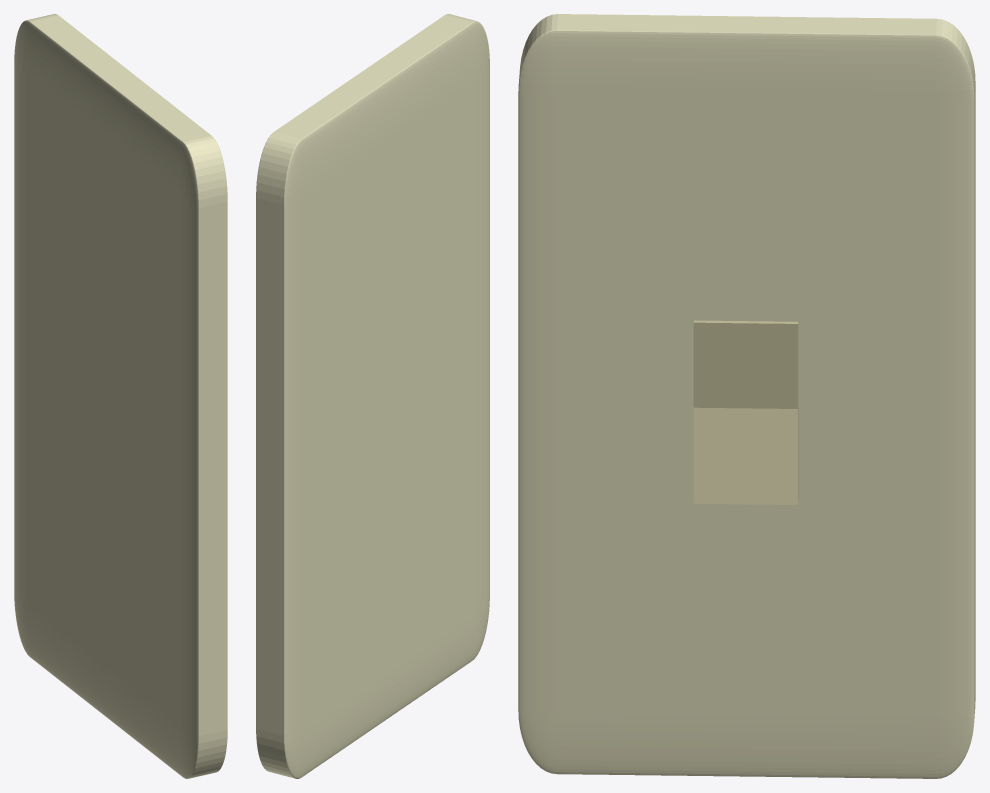
Rendered from LightSwitch.fbx.
3 views of the same model, side by side, from view 1: azimuth 30°, elevation 25°; view 2: azimuth 150°, elevation 25°; view 3: azimuth 270°, elevation 25° (orthographic). The views are drawn at different scales.
Visible parts, largest first — view 1: Cube.001; view 2: Cube.001; view 3: Cube.001, Cube.010.
Part boxes in pixels (<box>): Cube.001: <box>14,14,227,778</box>; Cube.001: <box>256,14,489,778</box>; Cube.001: <box>518,14,975,778</box>; Cube.010: <box>693,320,798,504</box>.
Size of the model in its own units: 3.05 by 29.63 by 16.5.
